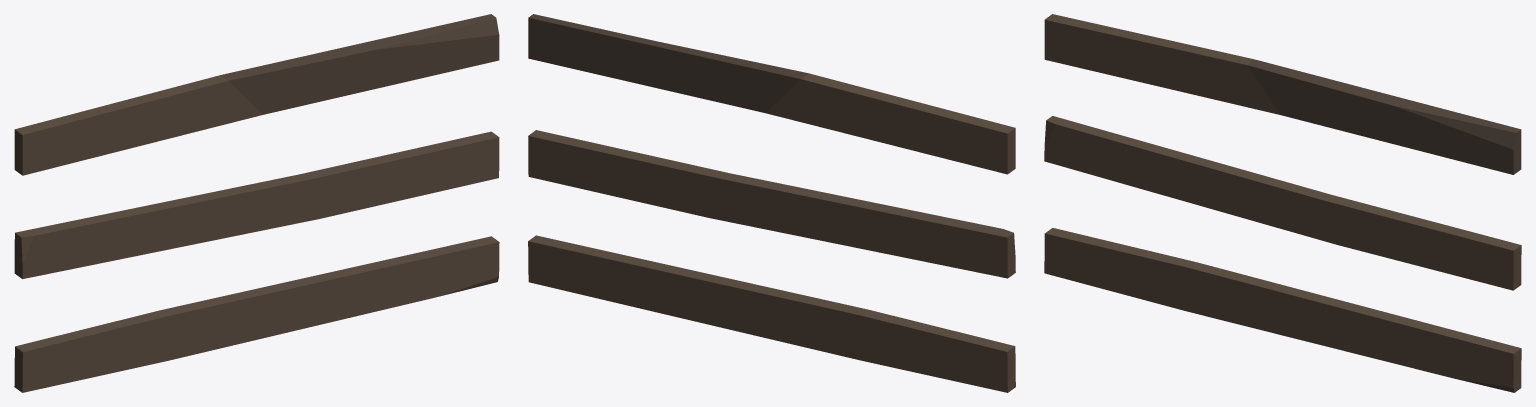
Rendered from SM_Props_Farm_Fence_Square_T2_Rail_01.fbx.
3 renders of one model, left to right at view 1: azimuth 30°, elevation 25°; view 2: azimuth 150°, elevation 25°; view 3: azimuth 330°, elevation 25°, orthographic. The views are drawn at different scales.
Visible parts, largest first — view 1: SM_Props_Farm_Fence_Square_T2_Rail_01; view 2: SM_Props_Farm_Fence_Square_T2_Rail_01; view 3: SM_Props_Farm_Fence_Square_T2_Rail_01.
Part boxes in pixels (bbox=[...]): SM_Props_Farm_Fence_Square_T2_Rail_01: bbox=[14, 14, 499, 392]; SM_Props_Farm_Fence_Square_T2_Rail_01: bbox=[528, 14, 1015, 392]; SM_Props_Farm_Fence_Square_T2_Rail_01: bbox=[1044, 14, 1521, 392].
Bounding box in the file's own units: 200 × 107 × 5.77.
